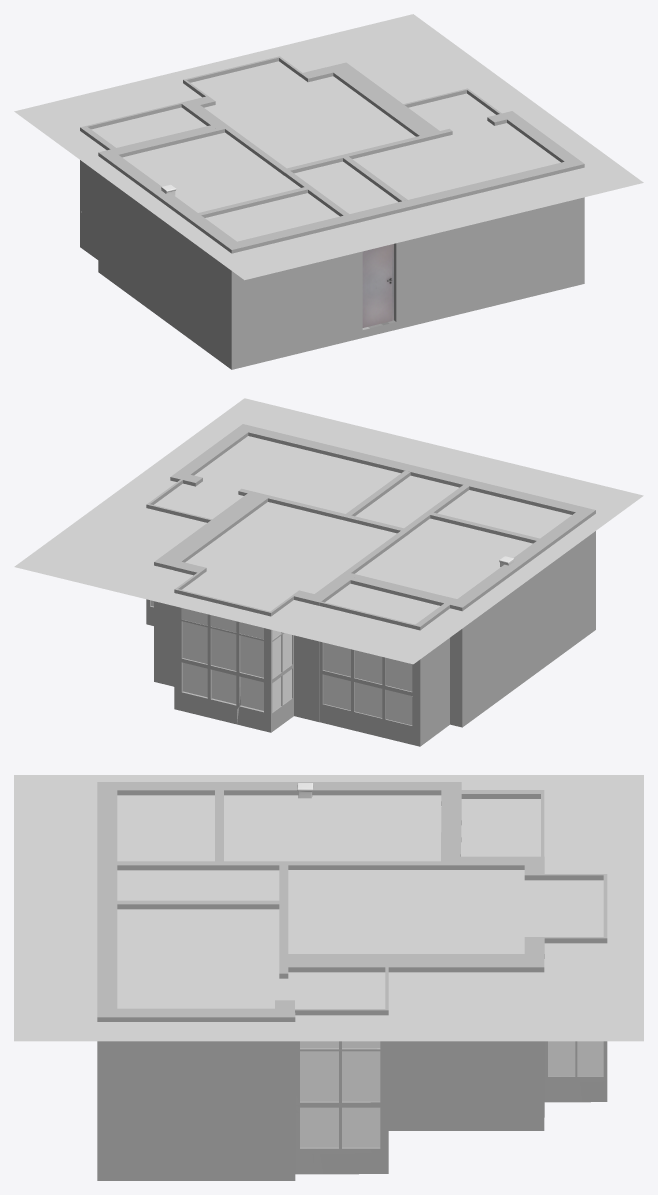
The model's file is MurodckApart.glb.
3 renders of one model, top to bottom at view 1: azimuth 30°, elevation 25°; view 2: azimuth 150°, elevation 25°; view 3: azimuth 270°, elevation 25°, orthographic. The views are drawn at different scales.
Parts seen in each view (by area): view 1: Ceiling, Cube_1, Cube.010_15, Plane.001_Door_0.002, Cube.014_19, Cube.012_17, Cube.005_5, Cube.004_9, Cube.013_18, Cube.006_6, Cube.008_12, Cube.009_13; view 2: Ceiling, Cube.010_15, Cube_1, Cube.016_21, Cube.013_18, Cube.014_19, Cube.012_17, Cube.011_16, Cube.018_25, Cube.005_5, Plane.009_35, Plane.010_36 (+16 smaller); view 3: Ceiling, Cube_1, Cube.014_19, Cube.010_15, Cube.019_22, Plane.026_52, Plane.027_53, Cube.017_24, Plane.022_48, Cube.006_6, Cube.008_12, Cube.009_13 (+7 smaller).
Part boxes in pixels (<box>): Ceiling: <box>14,14,643,280</box>; Cube_1: <box>224,111,584,369</box>; Cube.010_15: <box>98,125,236,363</box>; Plane.001_Door_0.002: <box>362,244,392,327</box>; Cube.014_19: <box>326,62,439,136</box>; Cube.012_17: <box>81,127,115,259</box>; Cube.005_5: <box>281,128,452,175</box>; Cube.004_9: <box>198,187,307,217</box>; Cube.013_18: <box>80,103,181,247</box>; Cube.006_6: <box>340,155,407,201</box>; Cube.008_12: <box>225,127,286,172</box>; Cube.009_13: <box>187,105,230,133</box>; Ceiling: <box>14,398,643,664</box>; Cube.010_15: <box>350,512,588,727</box>; Cube_1: <box>170,424,595,634</box>; Cube.016_21: <box>176,589,269,732</box>; Cube.013_18: <box>320,601,421,746</box>; Cube.014_19: <box>154,493,267,686</box>; Cube.012_17: <box>415,603,449,745</box>; Cube.011_16: <box>292,590,326,722</box>; Cube.018_25: <box>269,596,293,732</box>; Cube.005_5: <box>238,488,409,535</box>; Plane.009_35: <box>182,621,207,663</box>; Plane.010_36: <box>211,628,236,670</box>; Ceiling: <box>14,775,643,1041</box>; Cube_1: <box>97,782,295,1180</box>; Cube.014_19: <box>288,954,544,1130</box>; Cube.010_15: <box>117,782,461,856</box>; Cube.019_22: <box>295,1009,385,1174</box>; Plane.026_52: <box>300,1051,380,1101</box>; Plane.027_53: <box>300,1107,380,1147</box>; Cube.017_24: <box>544,937,607,1102</box>; Plane.022_48: <box>548,1041,603,1075</box>; Cube.006_6: <box>117,900,288,909</box>; Cube.008_12: <box>288,861,440,869</box>; Cube.009_13: <box>441,856,524,869</box>.
Bounding box in the file's own units: 9.13 × 2.69 × 9.13.
84 materials, 49 textured.
